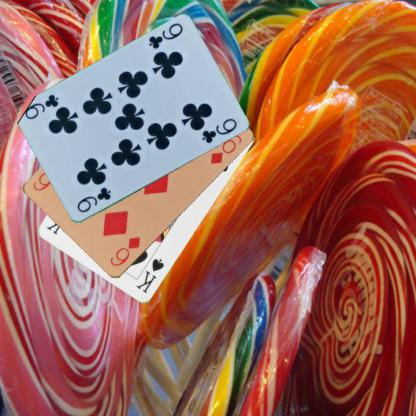6d: (107, 234, 142, 268)
9c: (146, 21, 184, 51), (74, 185, 112, 214)
Ks: (133, 256, 166, 295)
